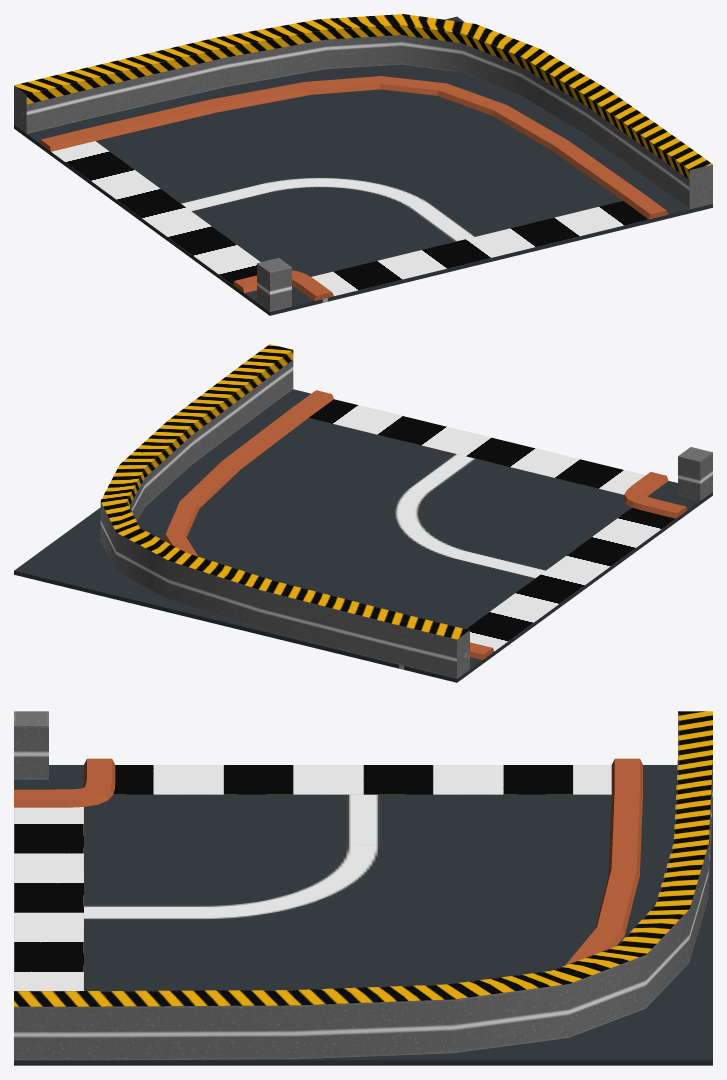
The model's file is kartkids_base_trk_020_trn_90_l_1x1.gltf.
3 views of the same model, one above another, from view 1: azimuth 30°, elevation 25°; view 2: azimuth 150°, elevation 25°; view 3: azimuth 270°, elevation 25° (orthographic). The views are drawn at different scales.
Visible parts, largest first — view 1: kartkids_base_trk_020_trn_90_l_1x1, kartkids_base_trk_020_trn_90_l_1x1.001, kartkids_base_trk_020_trn_90_l_1x1.002, kartkids_base_trk_020_trn_90_l_1x1.004; view 2: kartkids_base_trk_020_trn_90_l_1x1, kartkids_base_trk_020_trn_90_l_1x1.001, kartkids_base_trk_020_trn_90_l_1x1.002, kartkids_base_trk_020_trn_90_l_1x1.004; view 3: kartkids_base_trk_020_trn_90_l_1x1, kartkids_base_trk_020_trn_90_l_1x1.001, kartkids_base_trk_020_trn_90_l_1x1.002, kartkids_base_trk_020_trn_90_l_1x1.004.
Part boxes in pixels (x1,y1,x2,y2): kartkids_base_trk_020_trn_90_l_1x1: (14, 16, 712, 315); kartkids_base_trk_020_trn_90_l_1x1.001: (14, 14, 712, 209); kartkids_base_trk_020_trn_90_l_1x1.002: (39, 76, 668, 219); kartkids_base_trk_020_trn_90_l_1x1.004: (257, 258, 291, 311); kartkids_base_trk_020_trn_90_l_1x1: (14, 389, 712, 682); kartkids_base_trk_020_trn_90_l_1x1.001: (100, 344, 469, 678); kartkids_base_trk_020_trn_90_l_1x1.002: (163, 390, 493, 659); kartkids_base_trk_020_trn_90_l_1x1.004: (678, 447, 712, 500); kartkids_base_trk_020_trn_90_l_1x1: (14, 758, 712, 1065); kartkids_base_trk_020_trn_90_l_1x1.001: (14, 711, 712, 1060); kartkids_base_trk_020_trn_90_l_1x1.002: (565, 758, 642, 965); kartkids_base_trk_020_trn_90_l_1x1.004: (14, 711, 48, 779).
Bounding box in the file's own units: 10 × 0.9339 × 10.
Materials: 2 (2 with a texture image).
